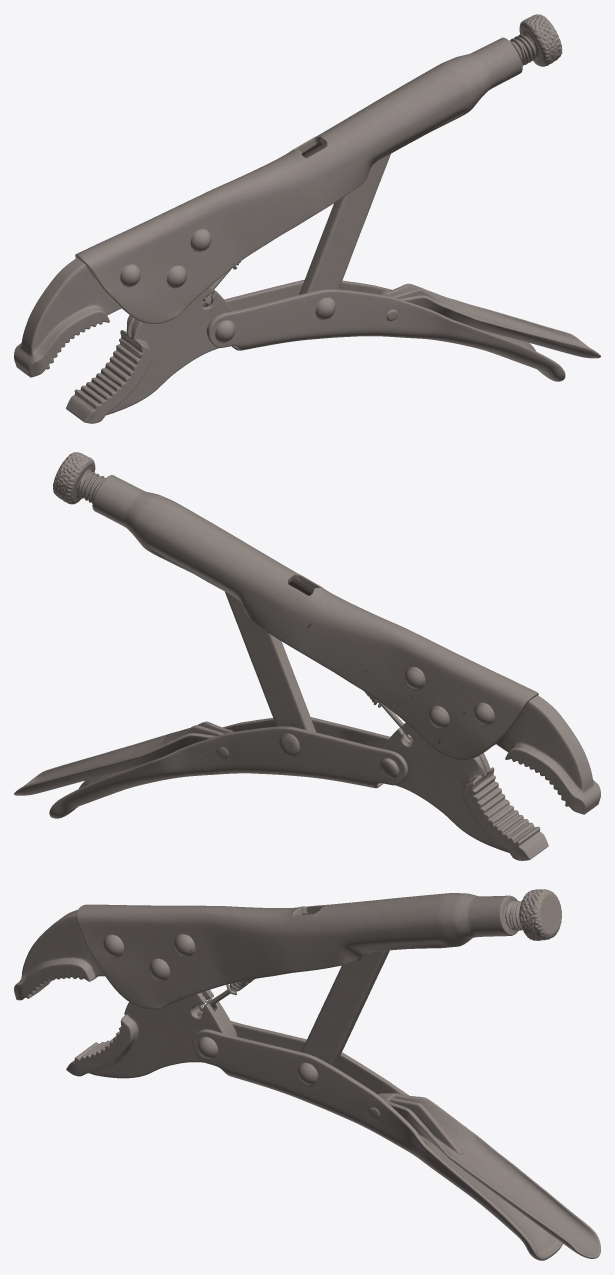
File: pliers.glb
The picture shows the model from 3 angles, top to bottom: view 1: azimuth 30°, elevation 25°; view 2: azimuth 150°, elevation 25°; view 3: azimuth 330°, elevation 25°; orthographic projection.
Parts seen in each view (by area): view 1: mesh_node; view 2: mesh_node; view 3: mesh_node.
Boxes of the visible parts, x1=… form: mesh_node: x1=14, y1=14, x2=600, y2=423; mesh_node: x1=14, y1=452, x2=600, y2=860; mesh_node: x1=14, y1=889, x2=600, y2=1260.
Bounding box in the file's own units: 1.9 × 1.14 × 0.1791.
Materials: 1 (1 with a texture image).
